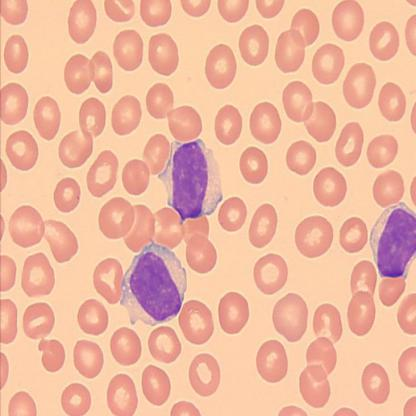Lymphocyte: (119, 239, 188, 328), (156, 135, 224, 225)
